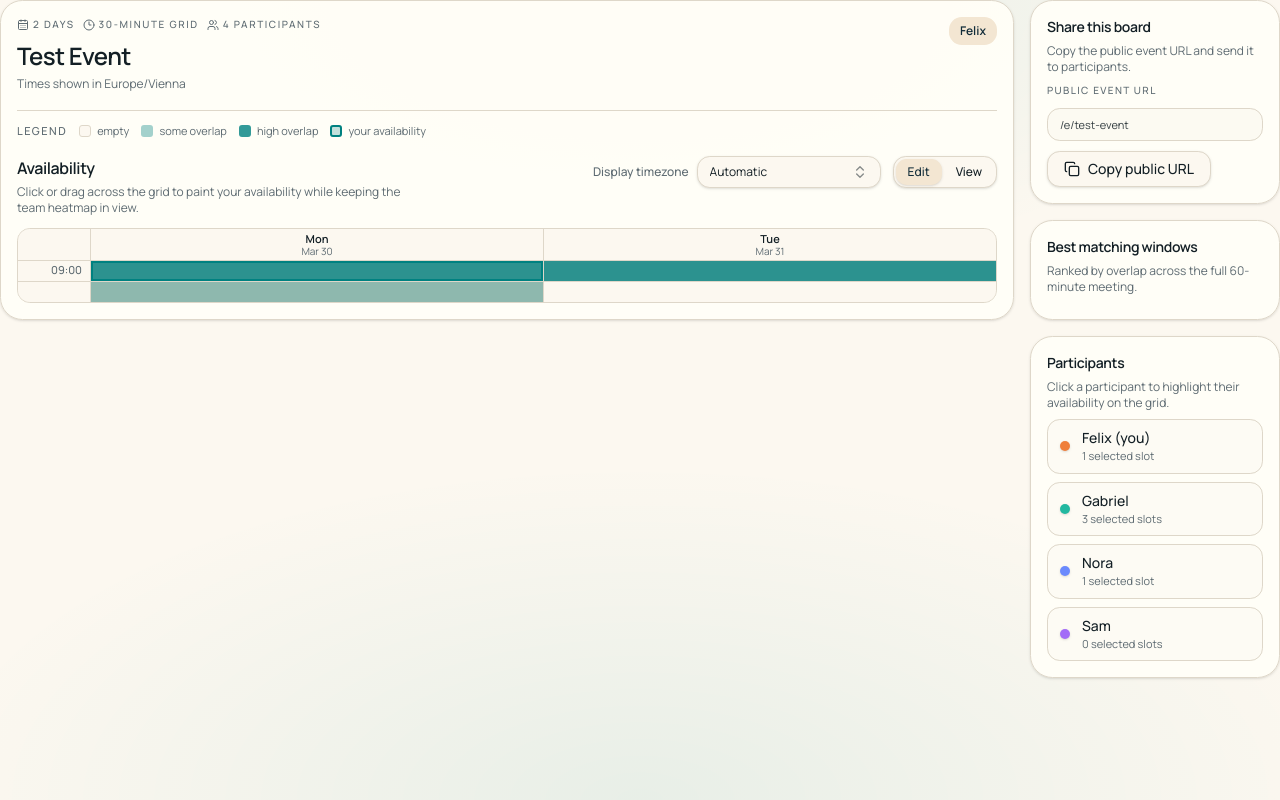
PublicEventClient › switches to view mode and shows available plus unavailable participants for a slot
Click the button "View" at (969, 172), box [944,158,994,184]
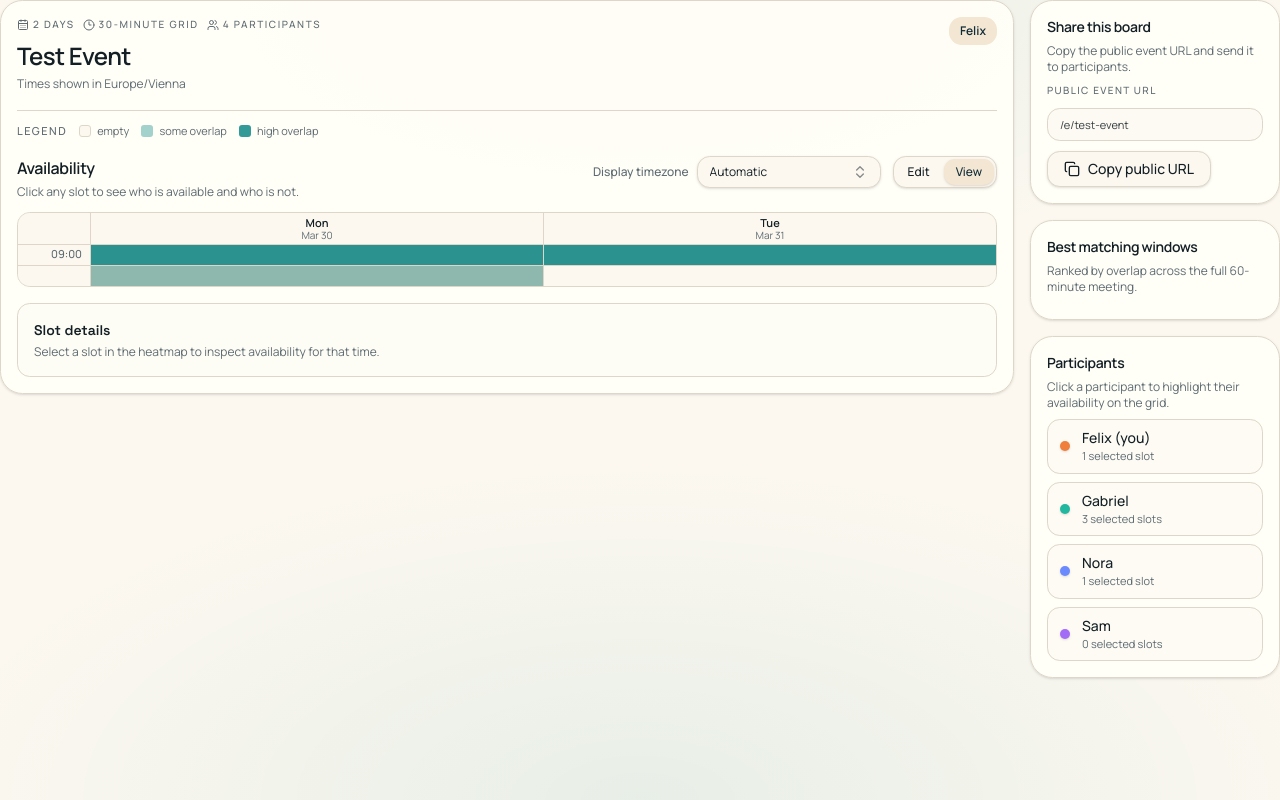
Now the text "your availability" is gone
Click the button named "Mon, Mar 30 09:00 · 2/4 available" at (317, 254), box [91,244,543,264]
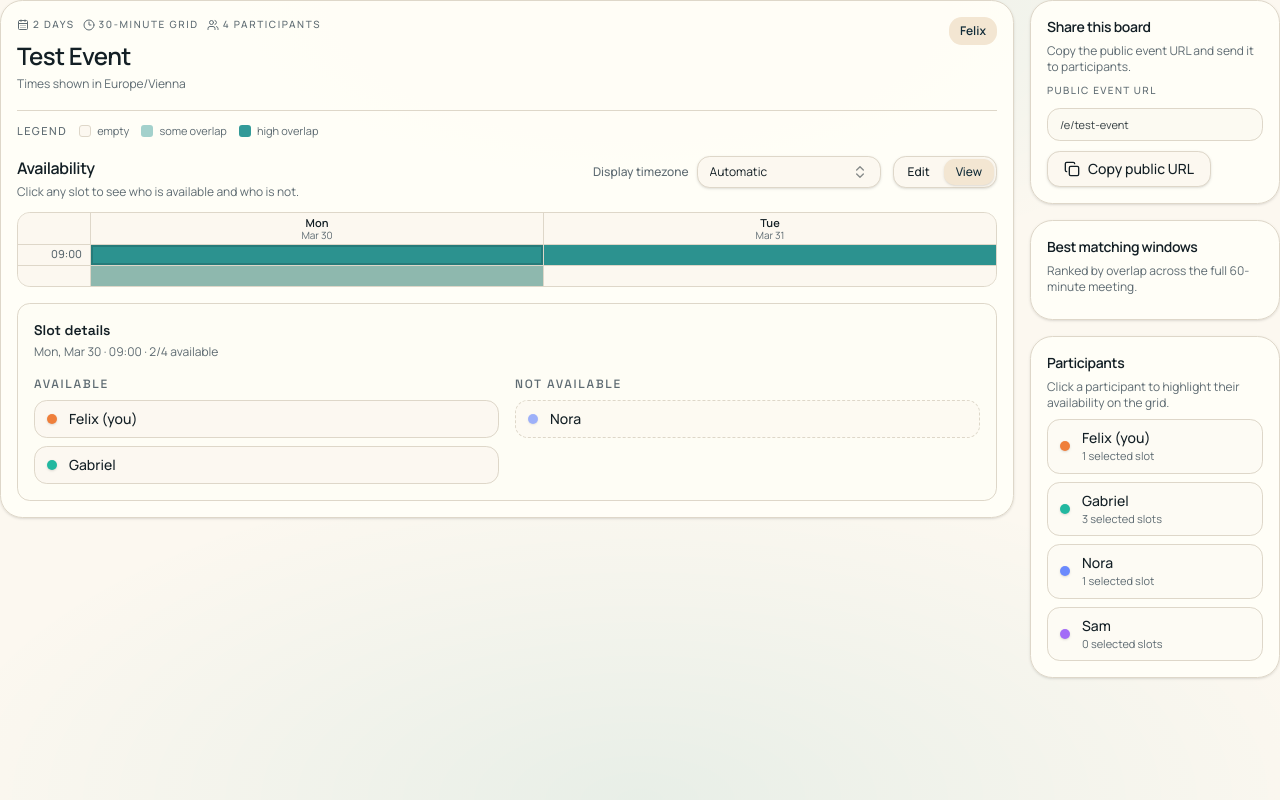
Now the heading "Slot details" is shown, box [34,320,110,338]
Now the text "Mon, Mar 30 · 09:00 · 2/4 available" is shown, box [34,342,218,360]
Now the text "Felix (you)" is shown, box [69,408,138,428]
